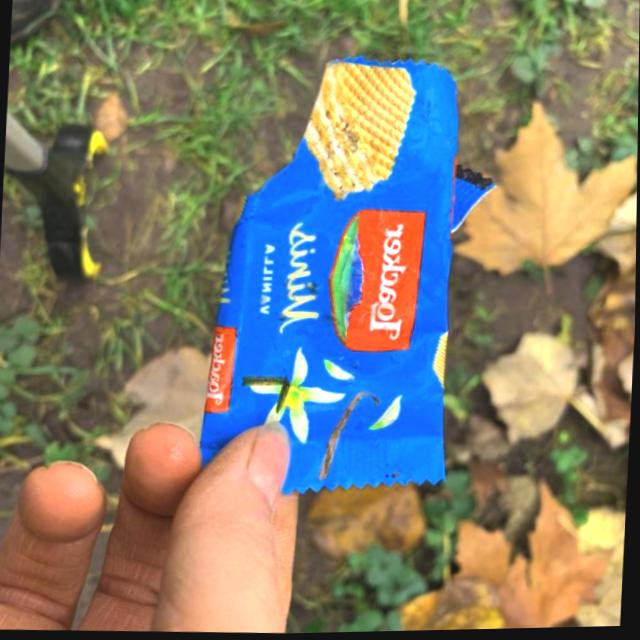Plastic: (194, 42, 507, 506)
